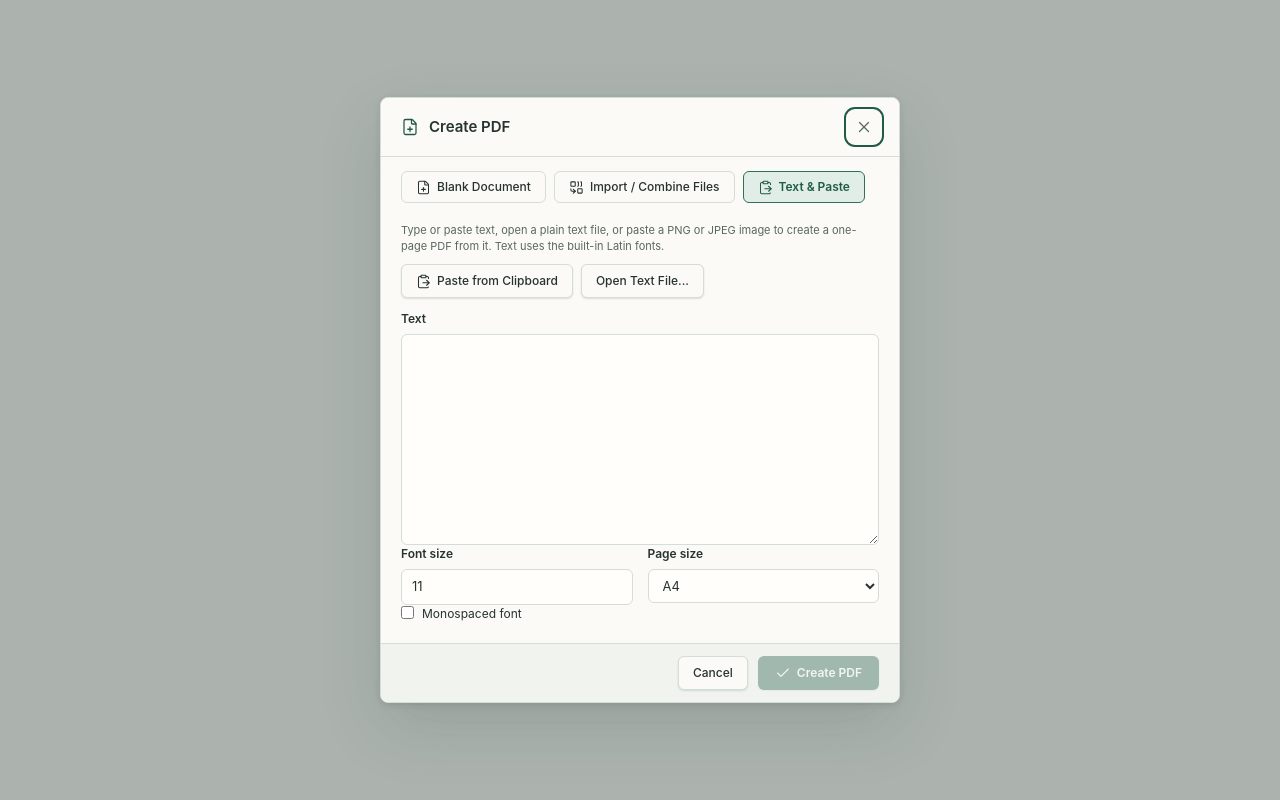
Test: reads text from the clipboard and explains when it cannot
What coordinates should you click on to do the following:
click the button "Paste from Clipboard"
I would click on:
 (487, 281)
Its box is x1=401 y1=264 x2=573 y2=298.
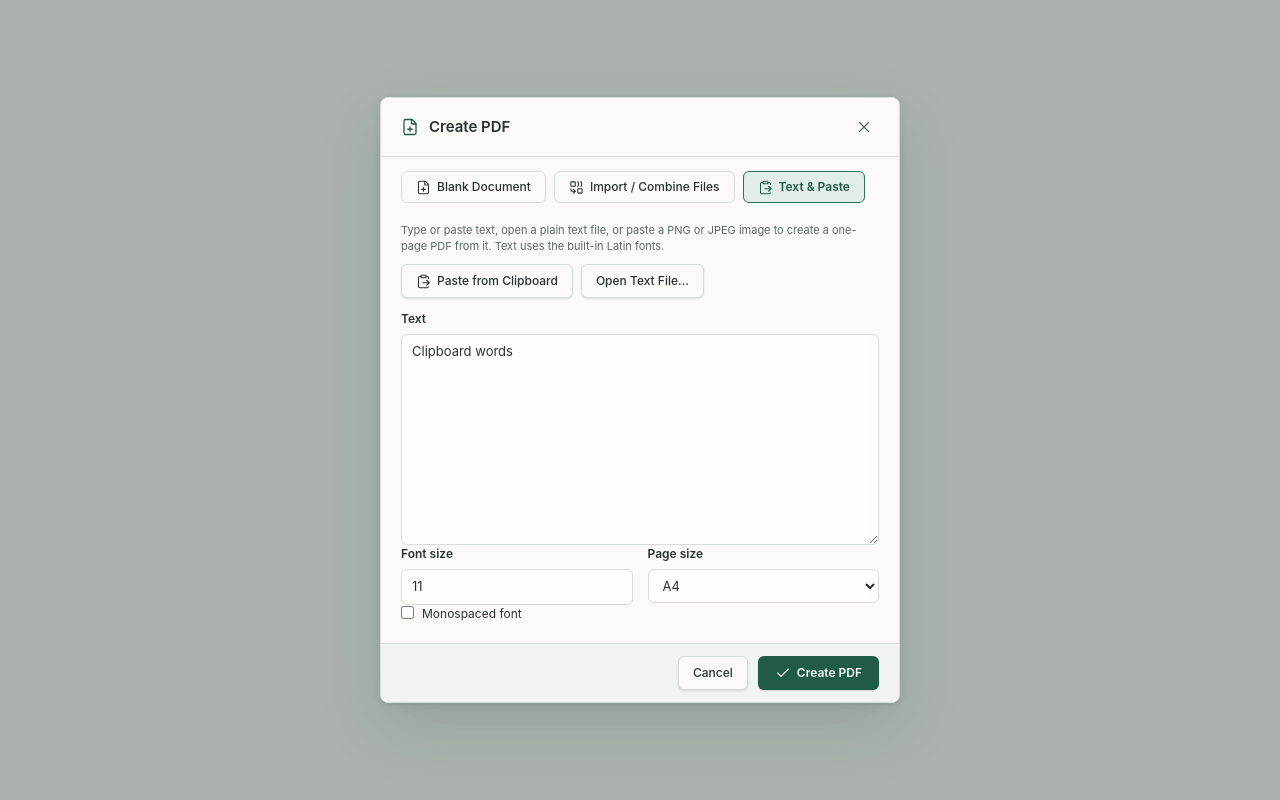
expect the text box labelled "Text" holds "Clipboard words": met, box x1=401 y1=334 x2=879 y2=545
What coordinates should you click on to do the following:
click the button "Paste from Clipboard"
I would click on:
 (487, 281)
Its box is x1=401 y1=264 x2=573 y2=298.
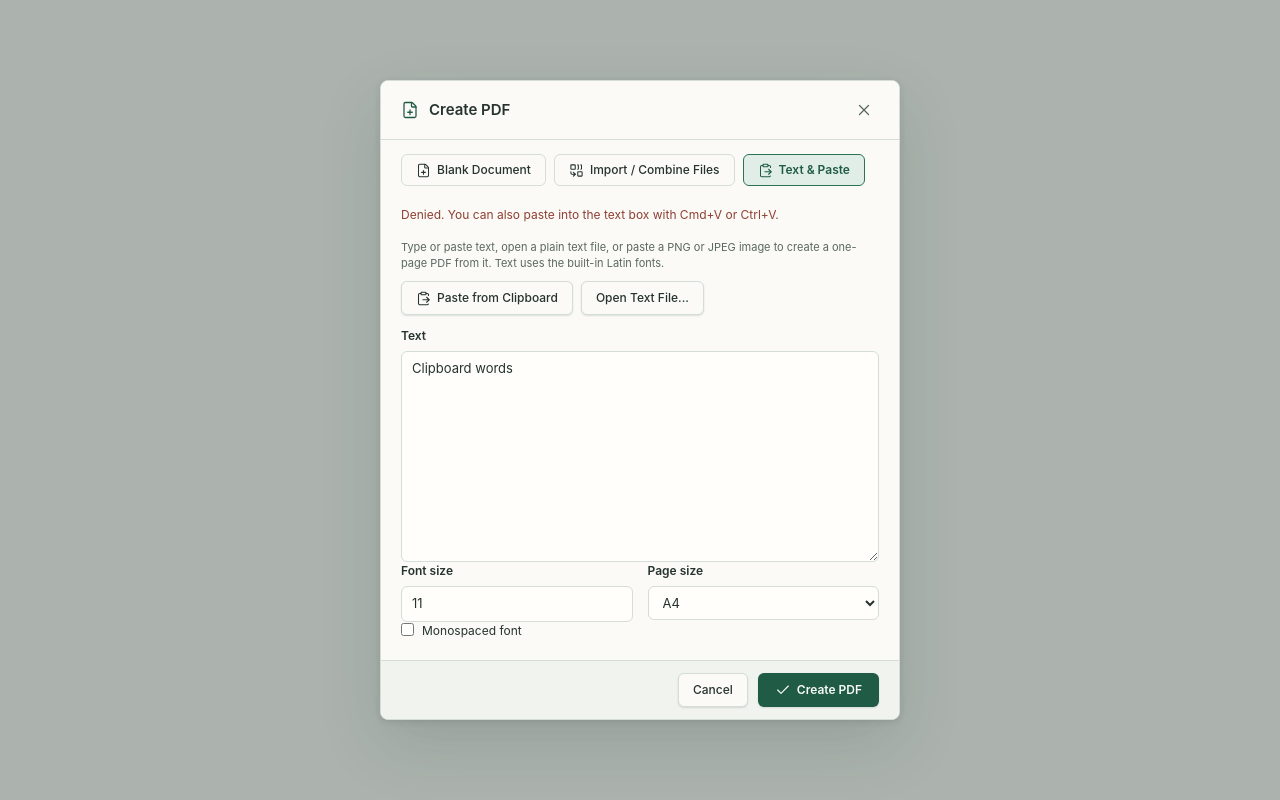
expect the text "Denied. You can also paste into the text box with Cmd+V or Ctrl+V." is shown: met, box x1=401 y1=207 x2=779 y2=222
